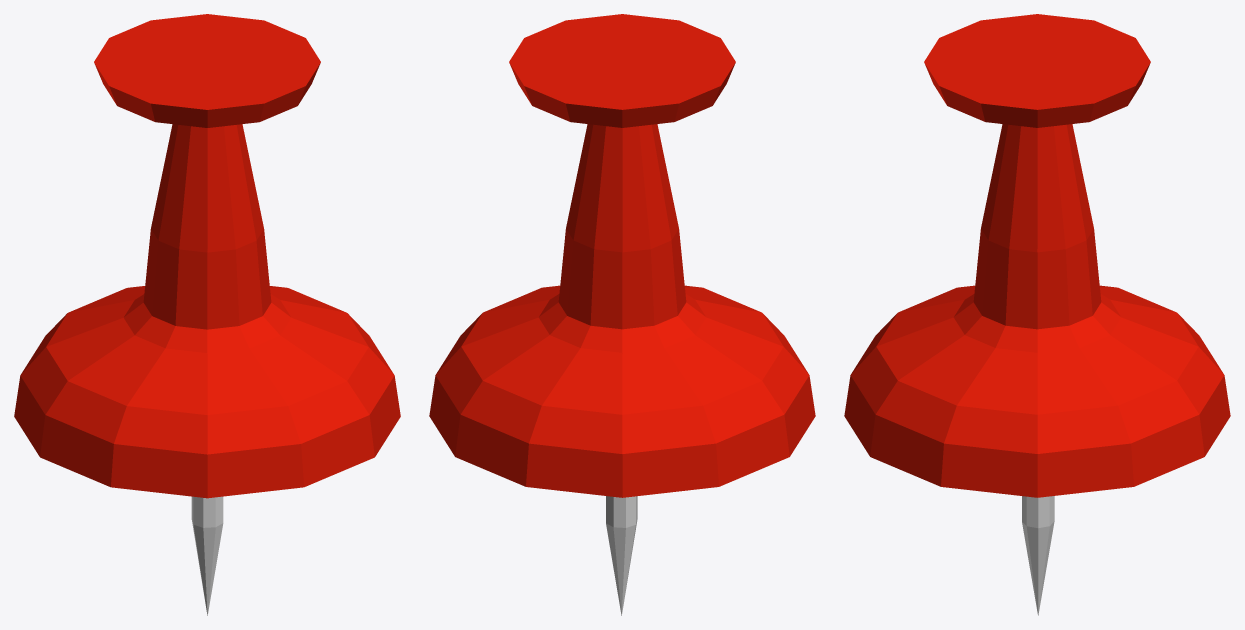
File: pin.glb
3 views of the same model, side by side, from view 1: azimuth 30°, elevation 25°; view 2: azimuth 150°, elevation 25°; view 3: azimuth 270°, elevation 25° (orthographic).
Visible parts, largest first — view 1: Circle, Cylinder; view 2: Circle, Cylinder; view 3: Circle, Cylinder.
Part boxes in pixels (box(x1,y1,x2,y2)): Circle: box(14, 14, 400, 498); Cylinder: box(191, 496, 223, 615); Circle: box(429, 14, 815, 497); Cylinder: box(606, 496, 637, 615); Circle: box(844, 14, 1230, 497); Cylinder: box(1022, 496, 1054, 615).
Bounding box in the file's own units: 0.0198 × 0.0313 × 0.0198.
